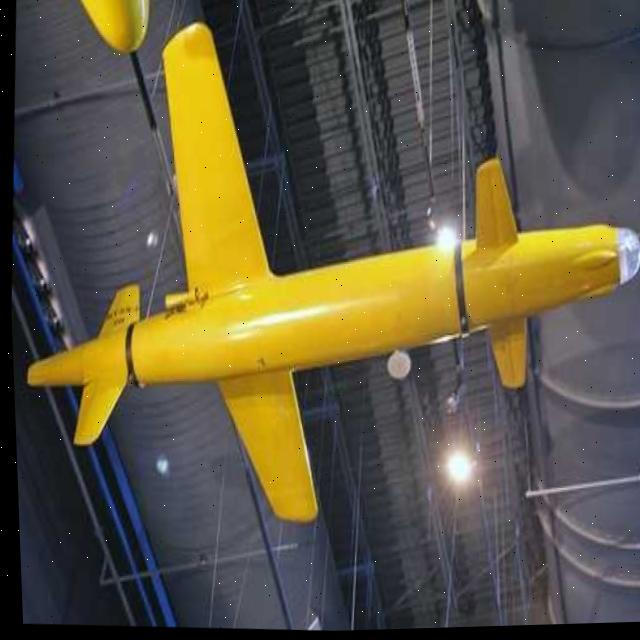missile: (8, 43, 640, 544)
